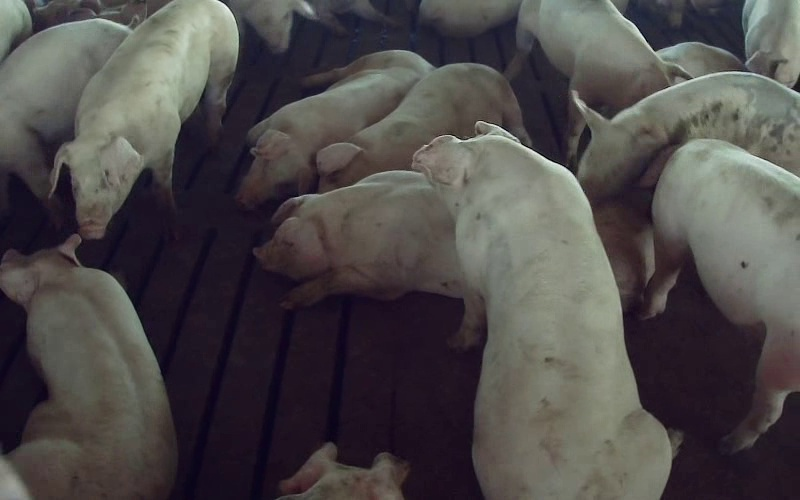pig: (413, 122, 670, 499), (640, 139, 799, 452), (236, 50, 432, 208), (573, 72, 799, 200), (254, 171, 462, 308), (316, 63, 530, 191), (0, 19, 128, 213), (742, 0, 799, 86)
